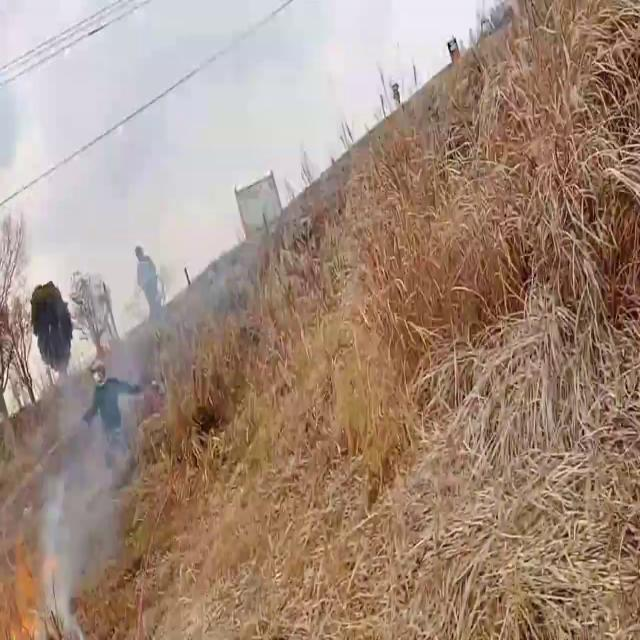Smoke: (24, 299, 160, 636)
